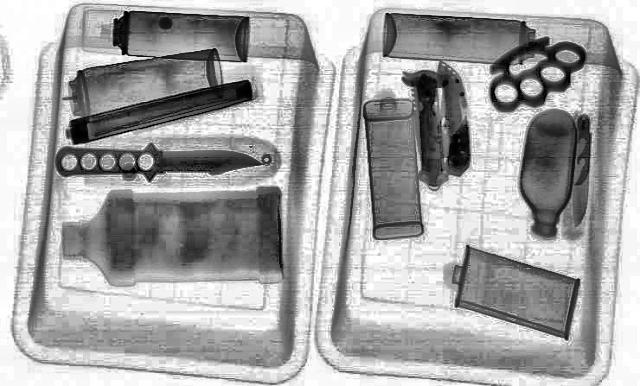Knife: (448, 27, 614, 119), (402, 69, 450, 183), (55, 147, 263, 173), (432, 59, 473, 176), (566, 114, 594, 224)
